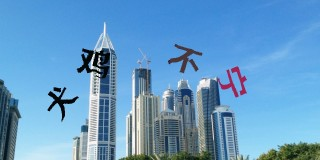不: (168, 43, 202, 73)
宁: (218, 64, 247, 98)
犬: (46, 85, 79, 121)
鸡: (77, 48, 111, 78)
